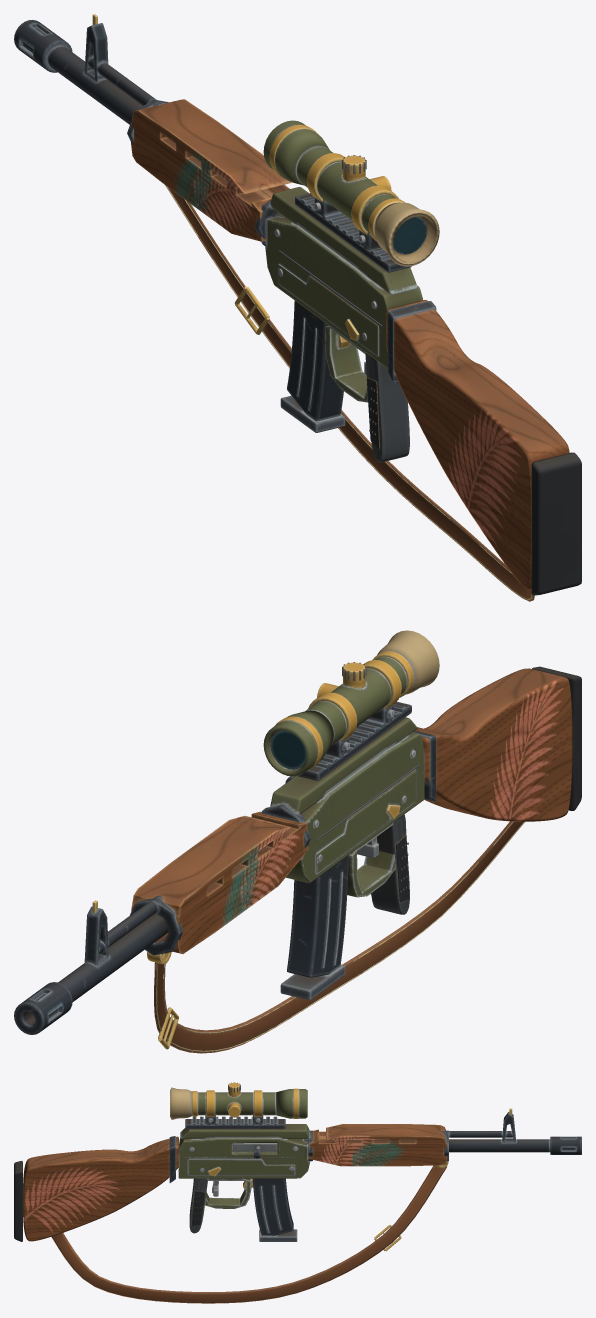
The model's file is dmr.glb.
The picture shows the model from 3 angles, top to bottom: view 1: azimuth 30°, elevation 25°; view 2: azimuth 150°, elevation 25°; view 3: azimuth 270°, elevation 25°; orthographic projection. The views are drawn at different scales.
Parts seen in each view (by area): view 1: dmr_body, dmr_mag_mesh; view 2: dmr_body, dmr_mag_mesh; view 3: dmr_body, dmr_mag_mesh.
Part boxes in pixels (x1,y1,x2,y2): dmr_body: [14, 14, 581, 601]; dmr_mag_mesh: [280, 300, 345, 432]; dmr_body: [14, 630, 581, 1053]; dmr_mag_mesh: [280, 855, 348, 1000]; dmr_body: [14, 1082, 581, 1303]; dmr_mag_mesh: [252, 1178, 297, 1241].
Bounding box in the file's own units: 0.1164 × 0.419 × 1.08.
Materials: 1 (1 with a texture image).
